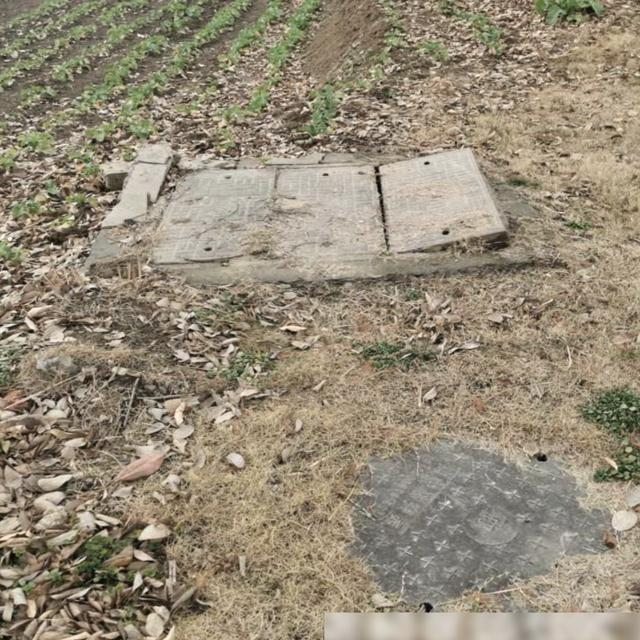uncovered: (209, 127, 538, 308)
